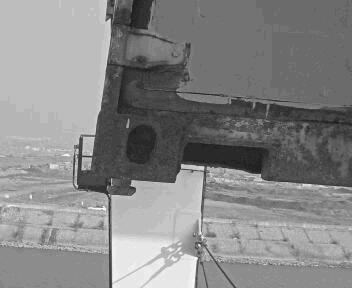twist_lock_1: (98, 175, 142, 205)
